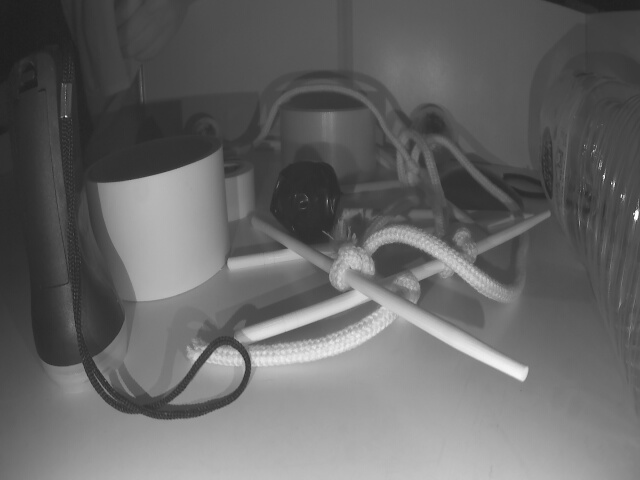Dead: (268, 162, 343, 243)
